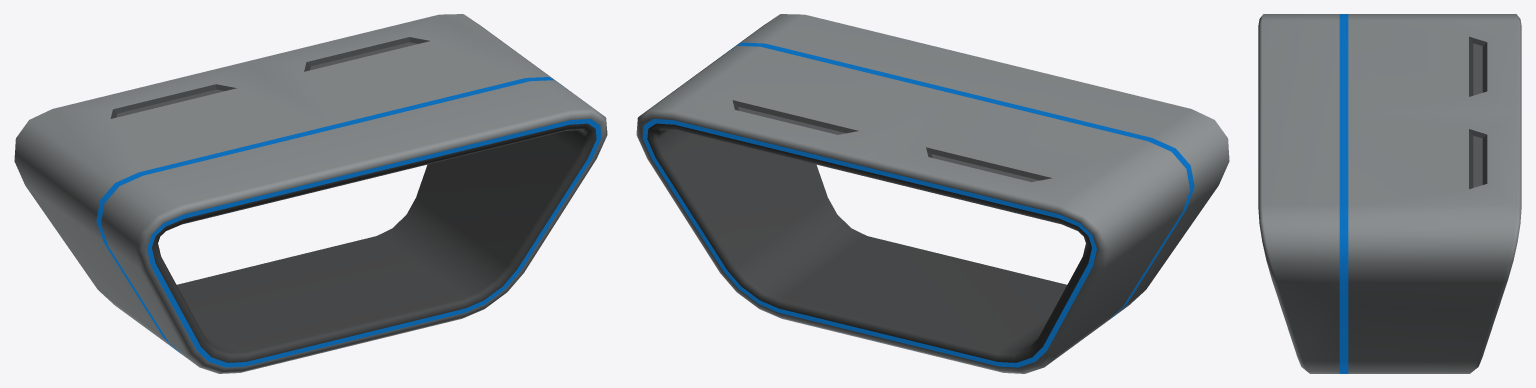
Rendered from Desk_037.glb.
3 renders of one model, left to right at view 1: azimuth 30°, elevation 25°; view 2: azimuth 150°, elevation 25°; view 3: azimuth 270°, elevation 25°, orthographic. The views are drawn at different scales.
Visible parts, largest first — view 1: Desk_037; view 2: Desk_037; view 3: Desk_037.
Boxes of the visible parts, x1,y1,x2,y2 form: Desk_037: (14,14,607,373); Desk_037: (636,14,1229,373); Desk_037: (1258,14,1521,373).
Bounding box in the file's own units: 2.03 × 0.8483 × 0.9998.
2 materials, 2 textured.
